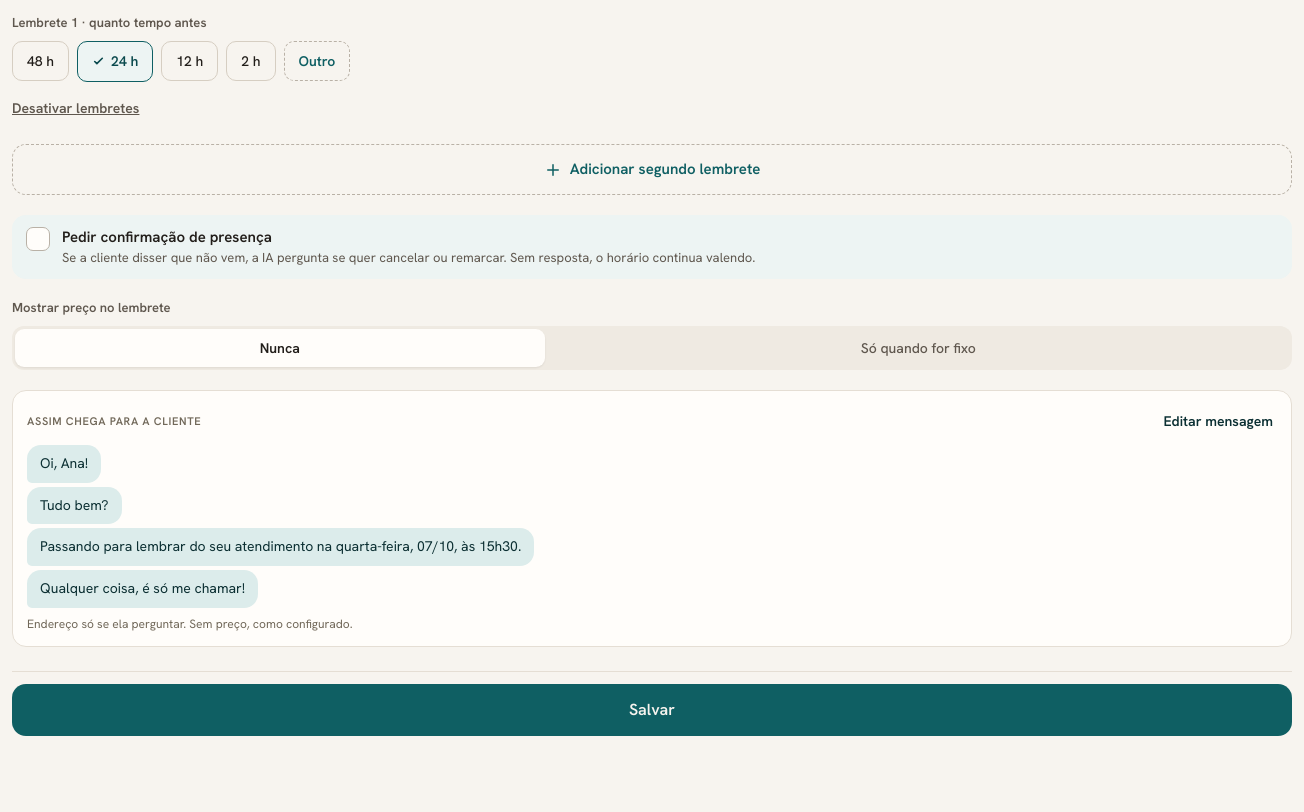
Test: a tela › 'Outro' abre o campo 'Minutos antes' e desmarca os chips
This screenshot has width=1304, height=812.
Click the button "Outro": (317, 61) [284,41,350,81]
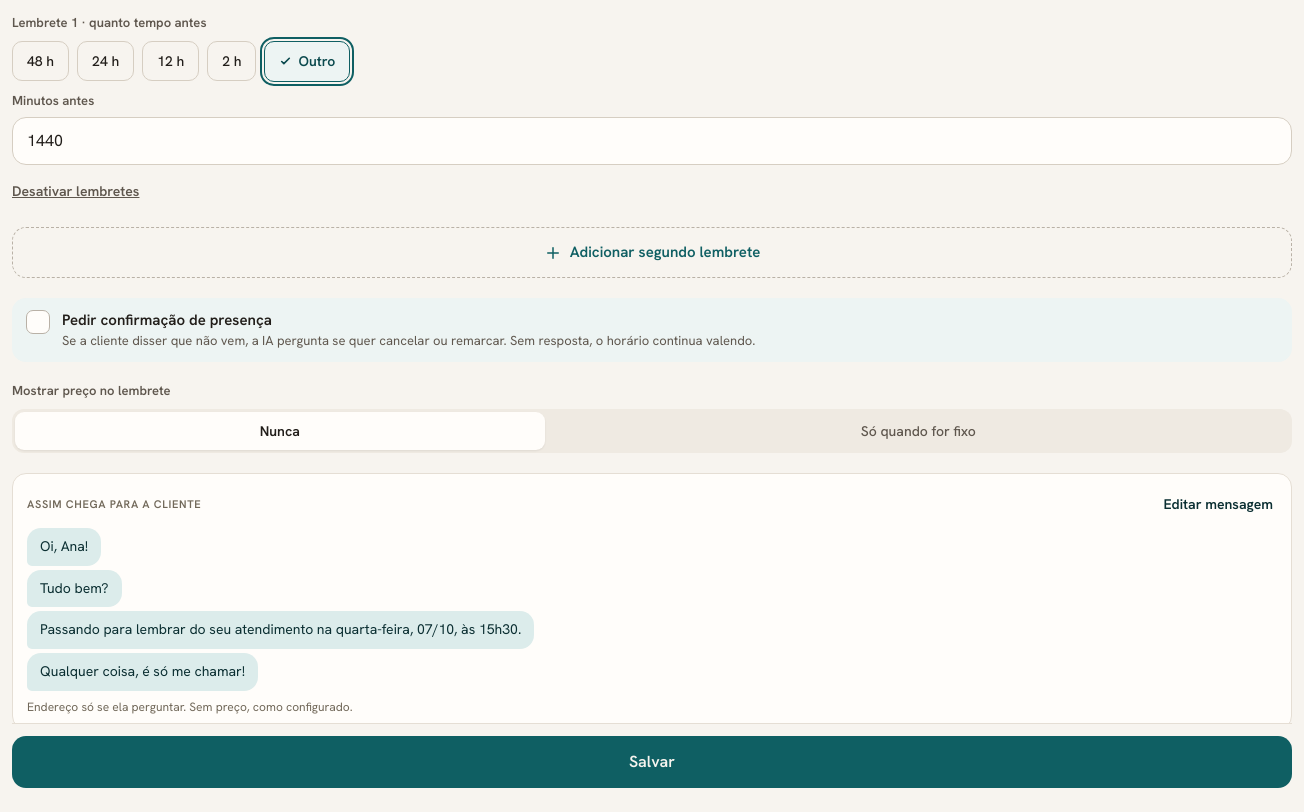
Now the number field labelled "Minutos antes" holds "1440", box [12,117,1292,165]
Click the button "12 h": (171, 61) [142,41,199,81]
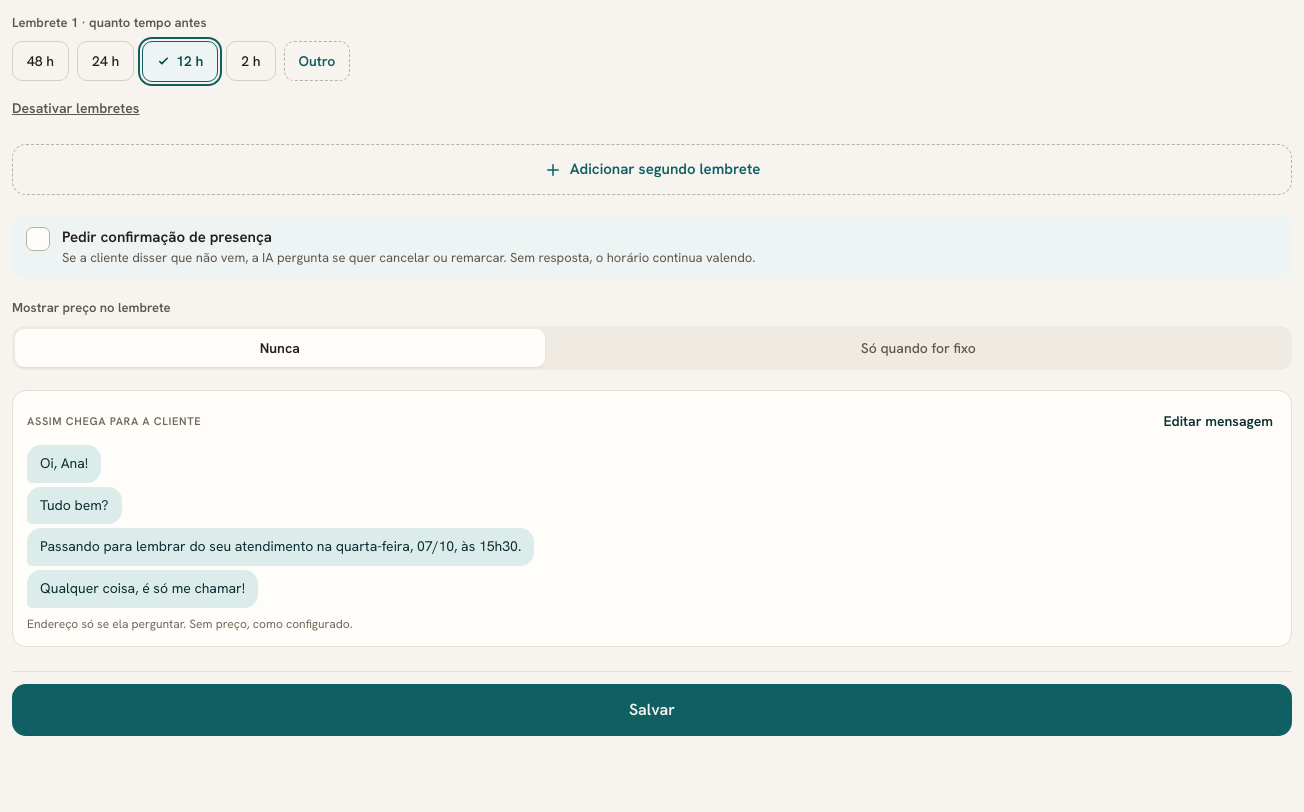
Now the text labelled "Minutos antes" is gone
